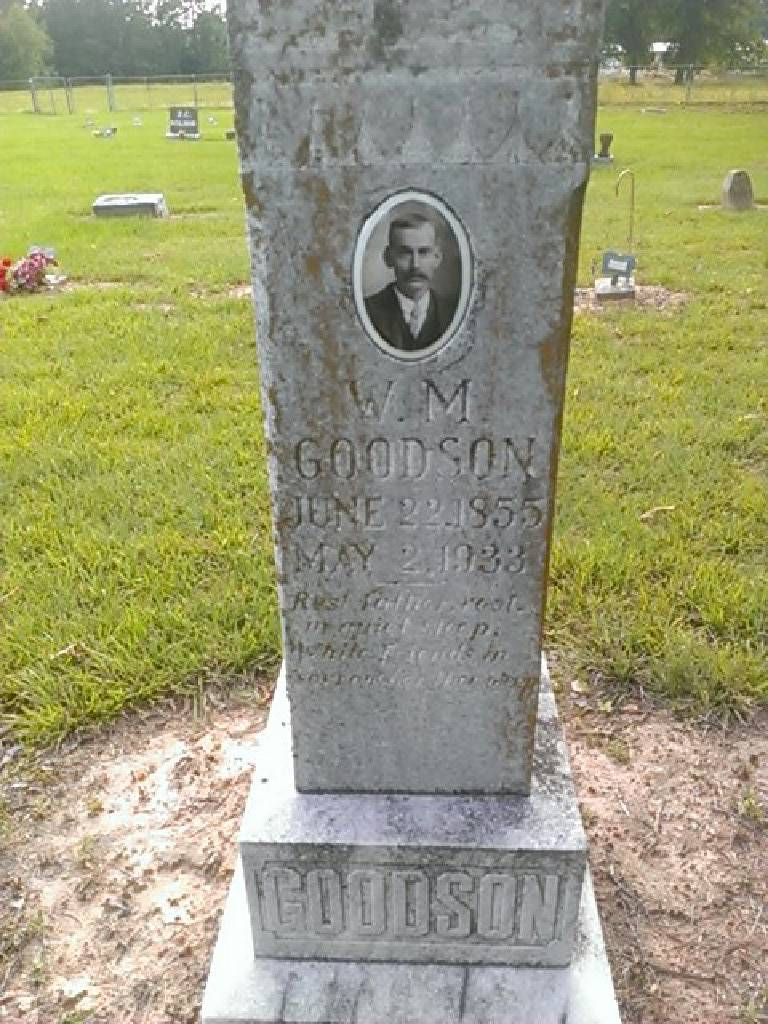obelisk: (184, 0, 614, 1024)
